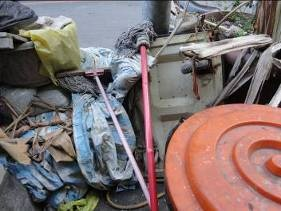plastic_bag: (3, 108, 90, 208), (69, 90, 139, 193)
plate: (166, 102, 281, 210)
